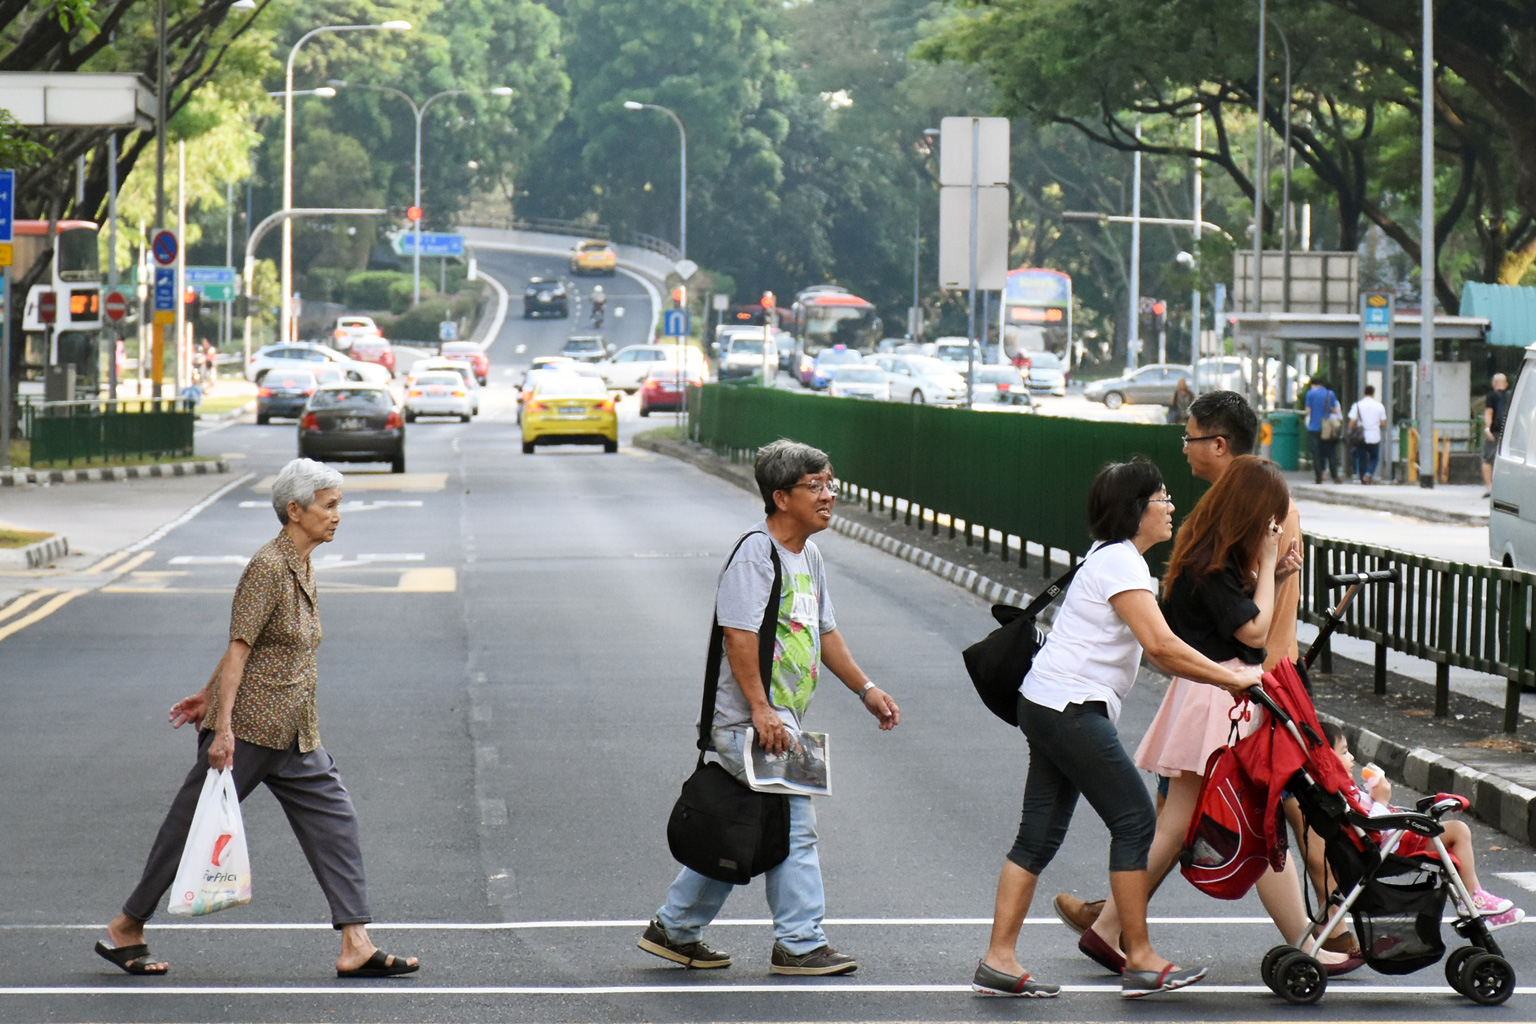pedestrian: (82, 452, 431, 995), (618, 435, 915, 987), (937, 441, 1205, 998), (1090, 449, 1364, 987)
